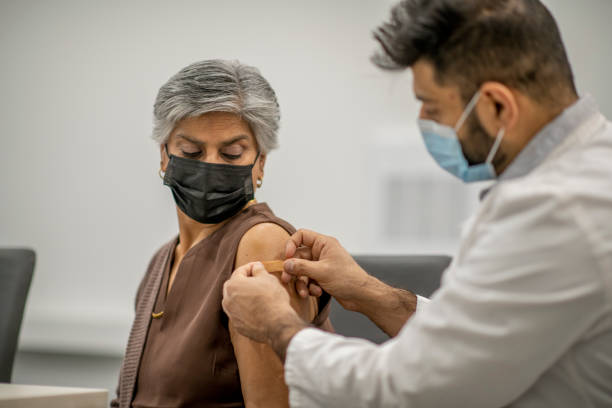with mask: (143, 97, 266, 226), (400, 56, 523, 185)
